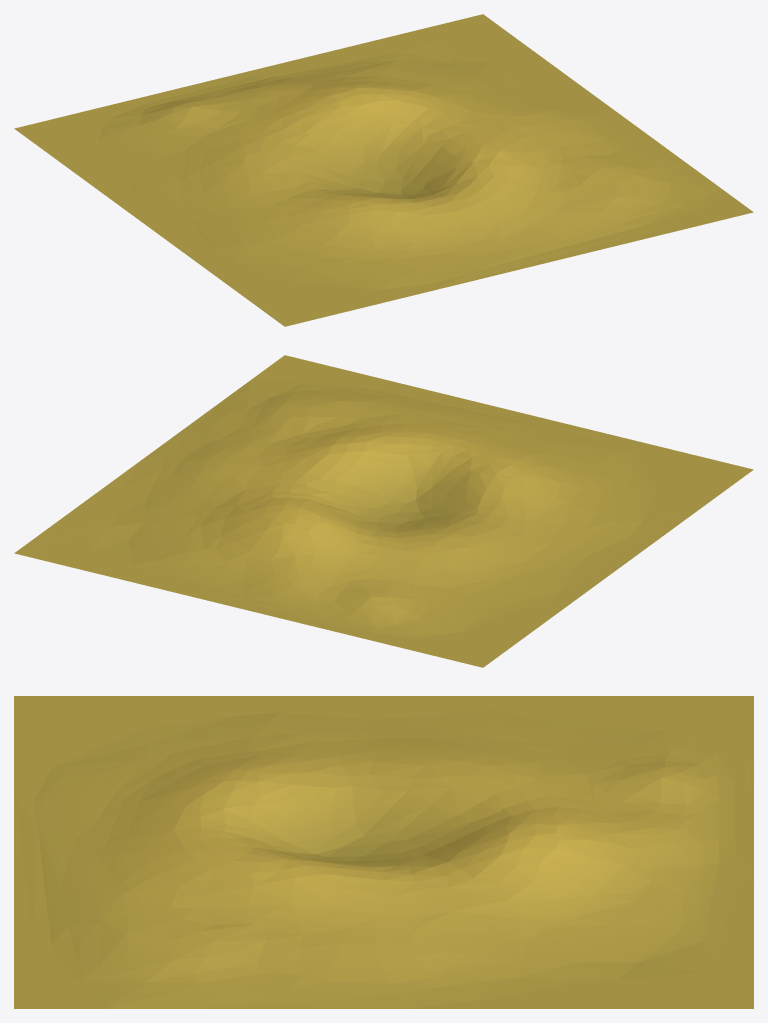
Rendered from Terrain_17.glb.
3 renders of one model, top to bottom at view 1: azimuth 30°, elevation 25°; view 2: azimuth 150°, elevation 25°; view 3: azimuth 270°, elevation 25°, orthographic. The views are drawn at different scales.
Parts seen in each view (by area): view 1: Terrain_17; view 2: Terrain_17; view 3: Terrain_17.
Boxes of the visible parts, bbox=[...] form: Terrain_17: bbox=[14, 14, 753, 326]; Terrain_17: bbox=[14, 355, 753, 667]; Terrain_17: bbox=[14, 696, 753, 1008].
Size of the model in its own units: 128 by 8.89 by 128.
Materials: 1 (1 with a texture image).
